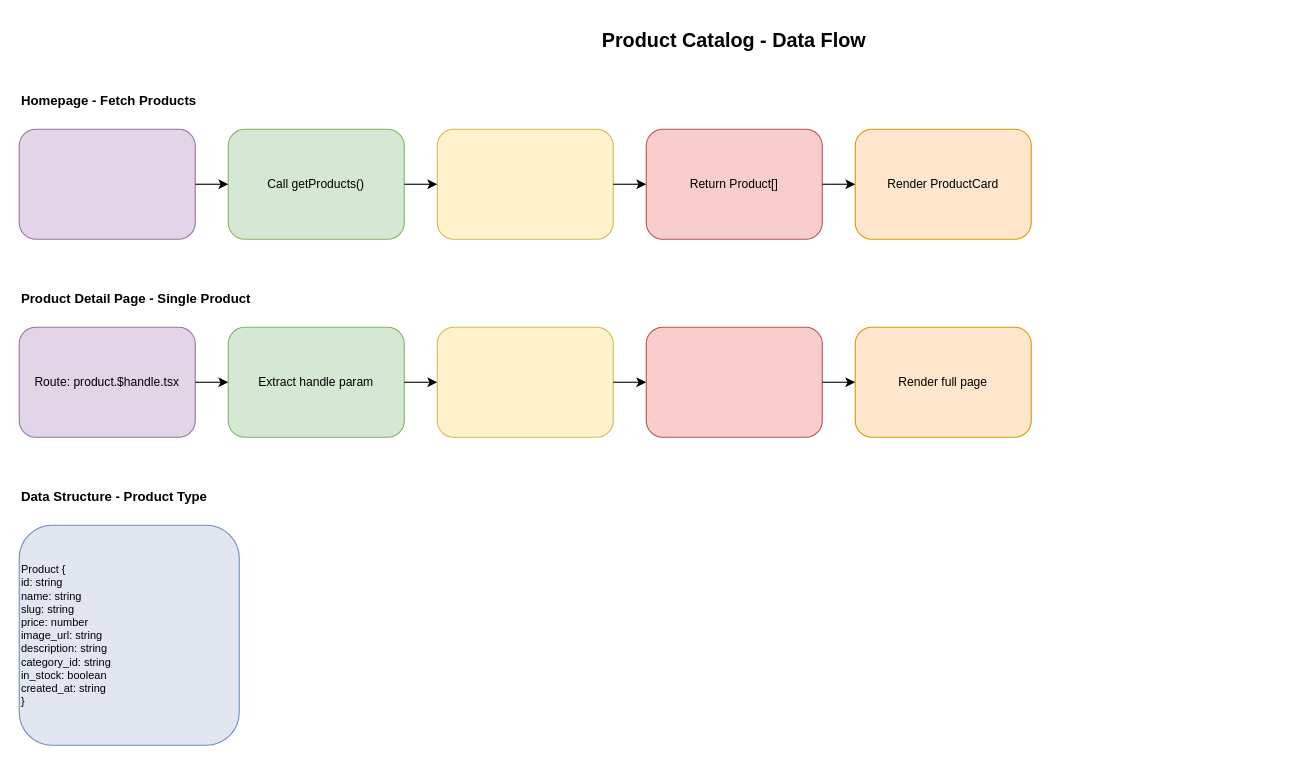
Image size: 1304x765. Some labels were removed from this diagram. The centre of each missing label's shape, as x and y in pixels:
Call getProductBySlug(): point 524,381
Query Supabase: point 524,183
Query with slug: point 733,381
Route: index.tsx: point 106,183
